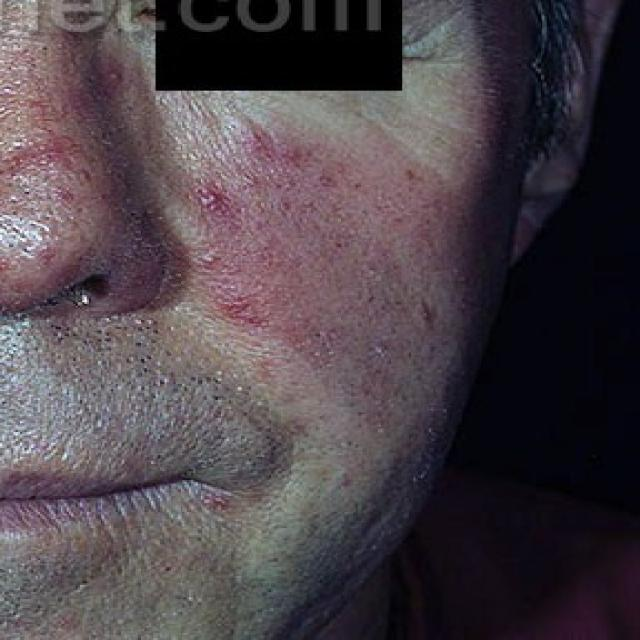Rosacea: (184, 151, 326, 325)
